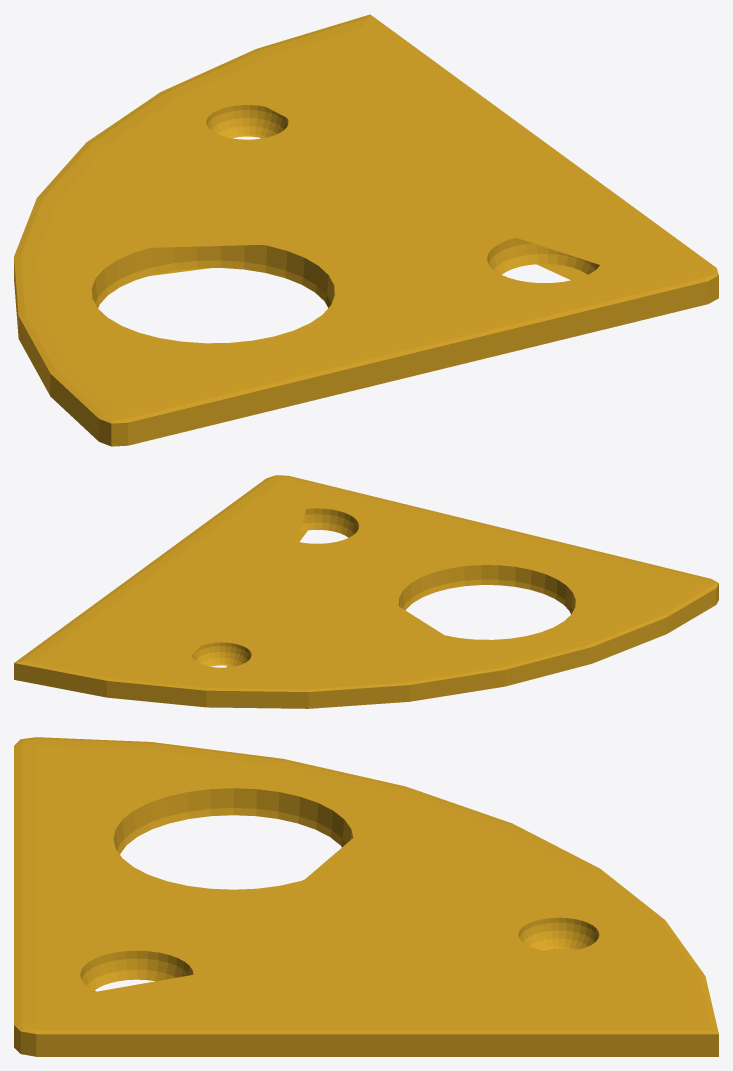
File: CheeseCutModel.fbx
3 views of the same model, one above another, from view 1: azimuth 30°, elevation 25°; view 2: azimuth 150°, elevation 25°; view 3: azimuth 270°, elevation 25° (orthographic). The views are drawn at different scales.
Visible parts, largest first — view 1: CheeseCut; view 2: CheeseCut; view 3: CheeseCut.
Boxes of the visible parts, x1=… form: CheeseCut: x1=14, y1=14, x2=718, y2=446; CheeseCut: x1=14, y1=475, x2=718, y2=708; CheeseCut: x1=14, y1=737, x2=718, y2=1056.
Size of the model in its own units: 45.21 by 45.35 by 1.79.
